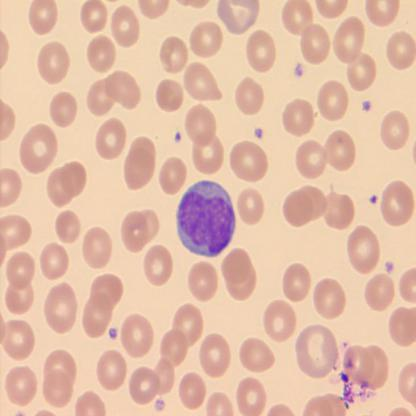Monocyte: (175, 178, 237, 260)
